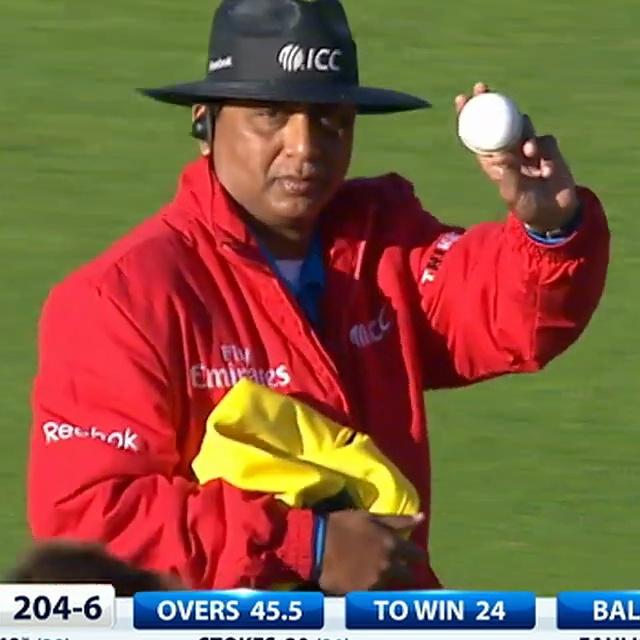umpire: (0, 0, 639, 593)
